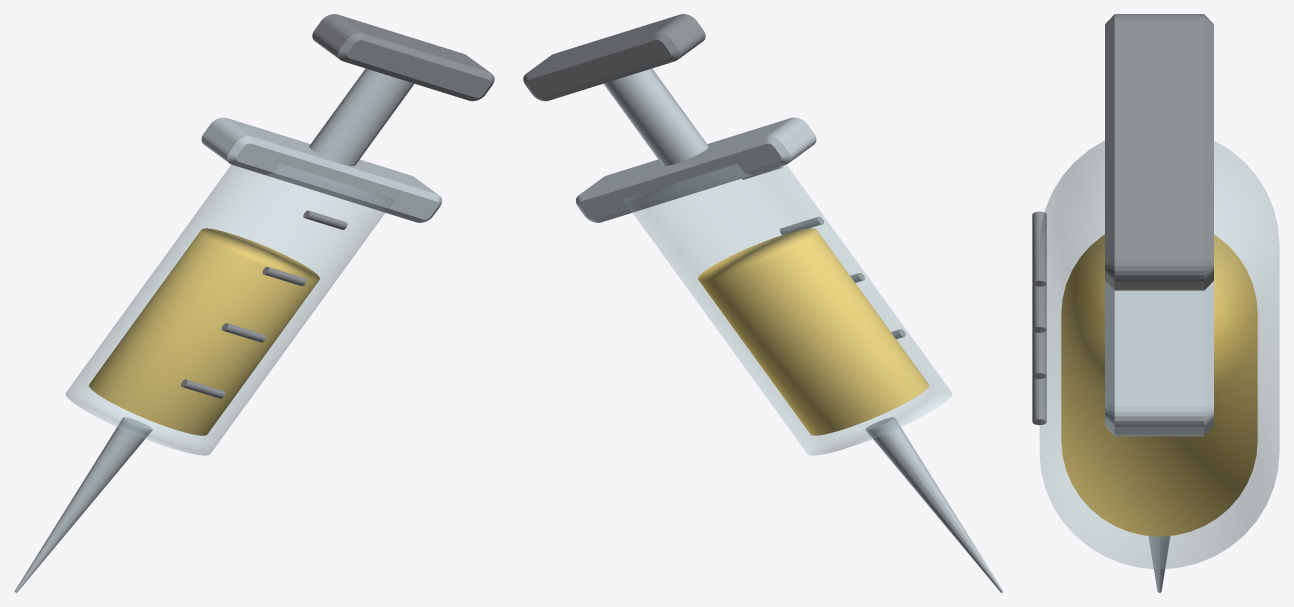
The model's file is injectable_steroids.glb.
The picture shows the model from 3 angles, left to right: view 1: azimuth 30°, elevation 25°; view 2: azimuth 150°, elevation 25°; view 3: azimuth 270°, elevation 25°; orthographic projection. The views are drawn at different scales.
Size of the model in its own units: 25 by 25 by 6.55.
